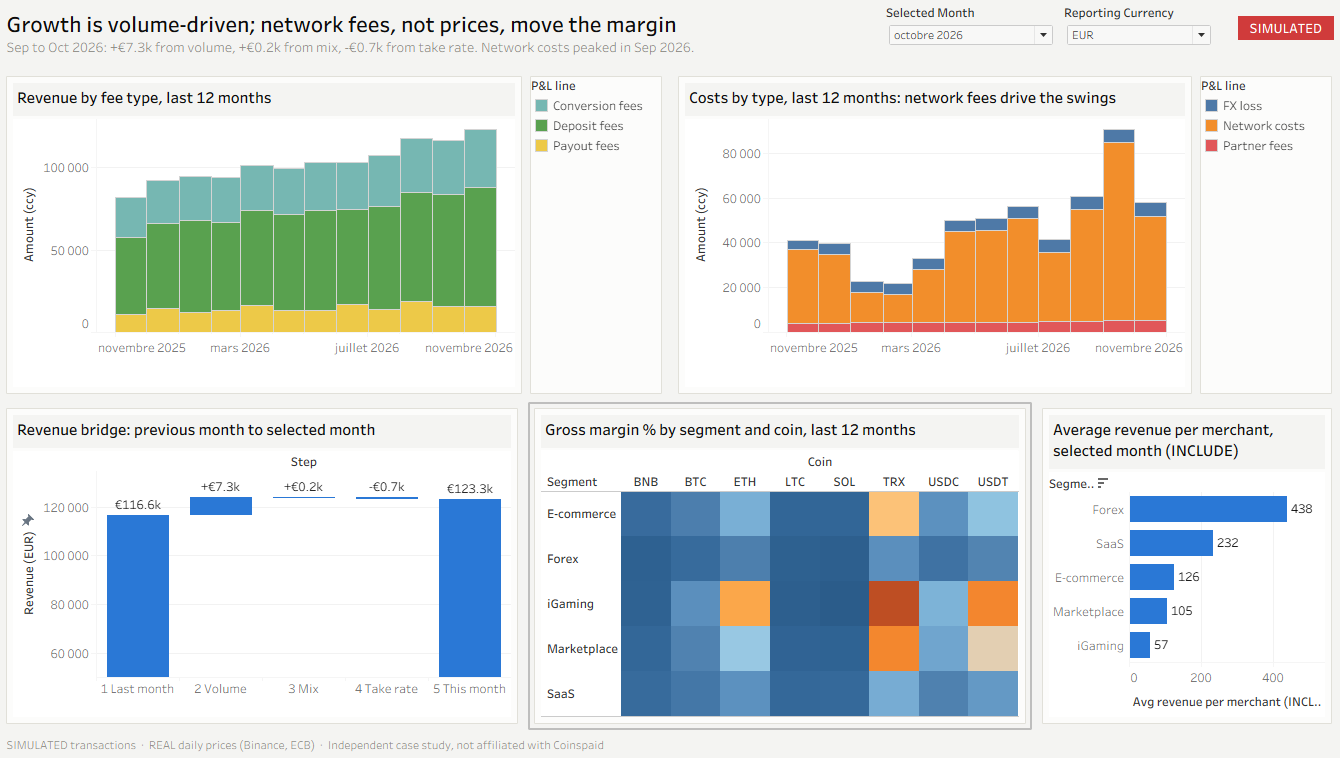

This screenshot's page, from the dashboard's own definition file:
{"tool":"tableau","page":{"name":"2 Revenue & margin","canvas":[1366,768],"ordinal":1},"visuals":[{"type":"text","box":[16,8,876,66]},{"type":"parameter","param":"[Parameters].[Selected Month]","box":[900,12,170,56]},{"type":"parameter","param":"[Parameters].[Reporting Currency]","box":[1078,12,150,56]},{"type":"text","box":[1250,22,100,28]},{"type":"worksheet","title":"Revenue by fee type","mark":"Bar","rows":["Amount (ccy)"],"cols":["month"],"box":[16,80,524,326]},{"type":"legend","title":"Revenue by fee type","param":"[federated.pnl_long].[none:line:nk]","box":[540,80,140,326]},{"type":"worksheet","title":"Costs by type","mark":"Bar","rows":["Amount (ccy)"],"cols":["month"],"box":[688,80,522,326]},{"type":"legend","title":"Costs by type","param":"[federated.pnl_long].[none:line:nk]","box":[1210,80,140,326]},{"type":"worksheet","title":"Revenue bridge","mark":"GanttBar","rows":["WF end"],"cols":["step_label"],"box":[16,412,520,324]},{"type":"worksheet","title":"Margin by segment and coin","mark":"Square","rows":["segment"],"cols":["currency"],"box":[544,412,500,324]},{"type":"worksheet","title":"Revenue per merchant","mark":"Bar","rows":["segment"],"cols":["Avg revenue per merchant (INCLUDE)"],"box":[1052,412,298,324]},{"type":"text","box":[16,742,1334,22]}]}

Visuals, with their boxes in screenshot pixels (x1, y1, x2, y2), scaled from the page's 1366x768 canvas onto the 1340x758 screenshot:
text: [x1=16, y1=8, x2=875, y2=73]
parameter: [x1=883, y1=12, x2=1050, y2=67]
parameter: [x1=1057, y1=12, x2=1205, y2=67]
text: [x1=1226, y1=22, x2=1324, y2=49]
"Revenue by fee type" worksheet (Bar marks): [x1=16, y1=79, x2=530, y2=401]
"Revenue by fee type" legend: [x1=530, y1=79, x2=667, y2=401]
"Costs by type" worksheet (Bar marks): [x1=675, y1=79, x2=1187, y2=401]
"Costs by type" legend: [x1=1187, y1=79, x2=1324, y2=401]
"Revenue bridge" worksheet (GanttBar marks): [x1=16, y1=407, x2=526, y2=726]
"Margin by segment and coin" worksheet (Square marks): [x1=534, y1=407, x2=1024, y2=726]
"Revenue per merchant" worksheet (Bar marks): [x1=1032, y1=407, x2=1324, y2=726]
text: [x1=16, y1=732, x2=1324, y2=754]
